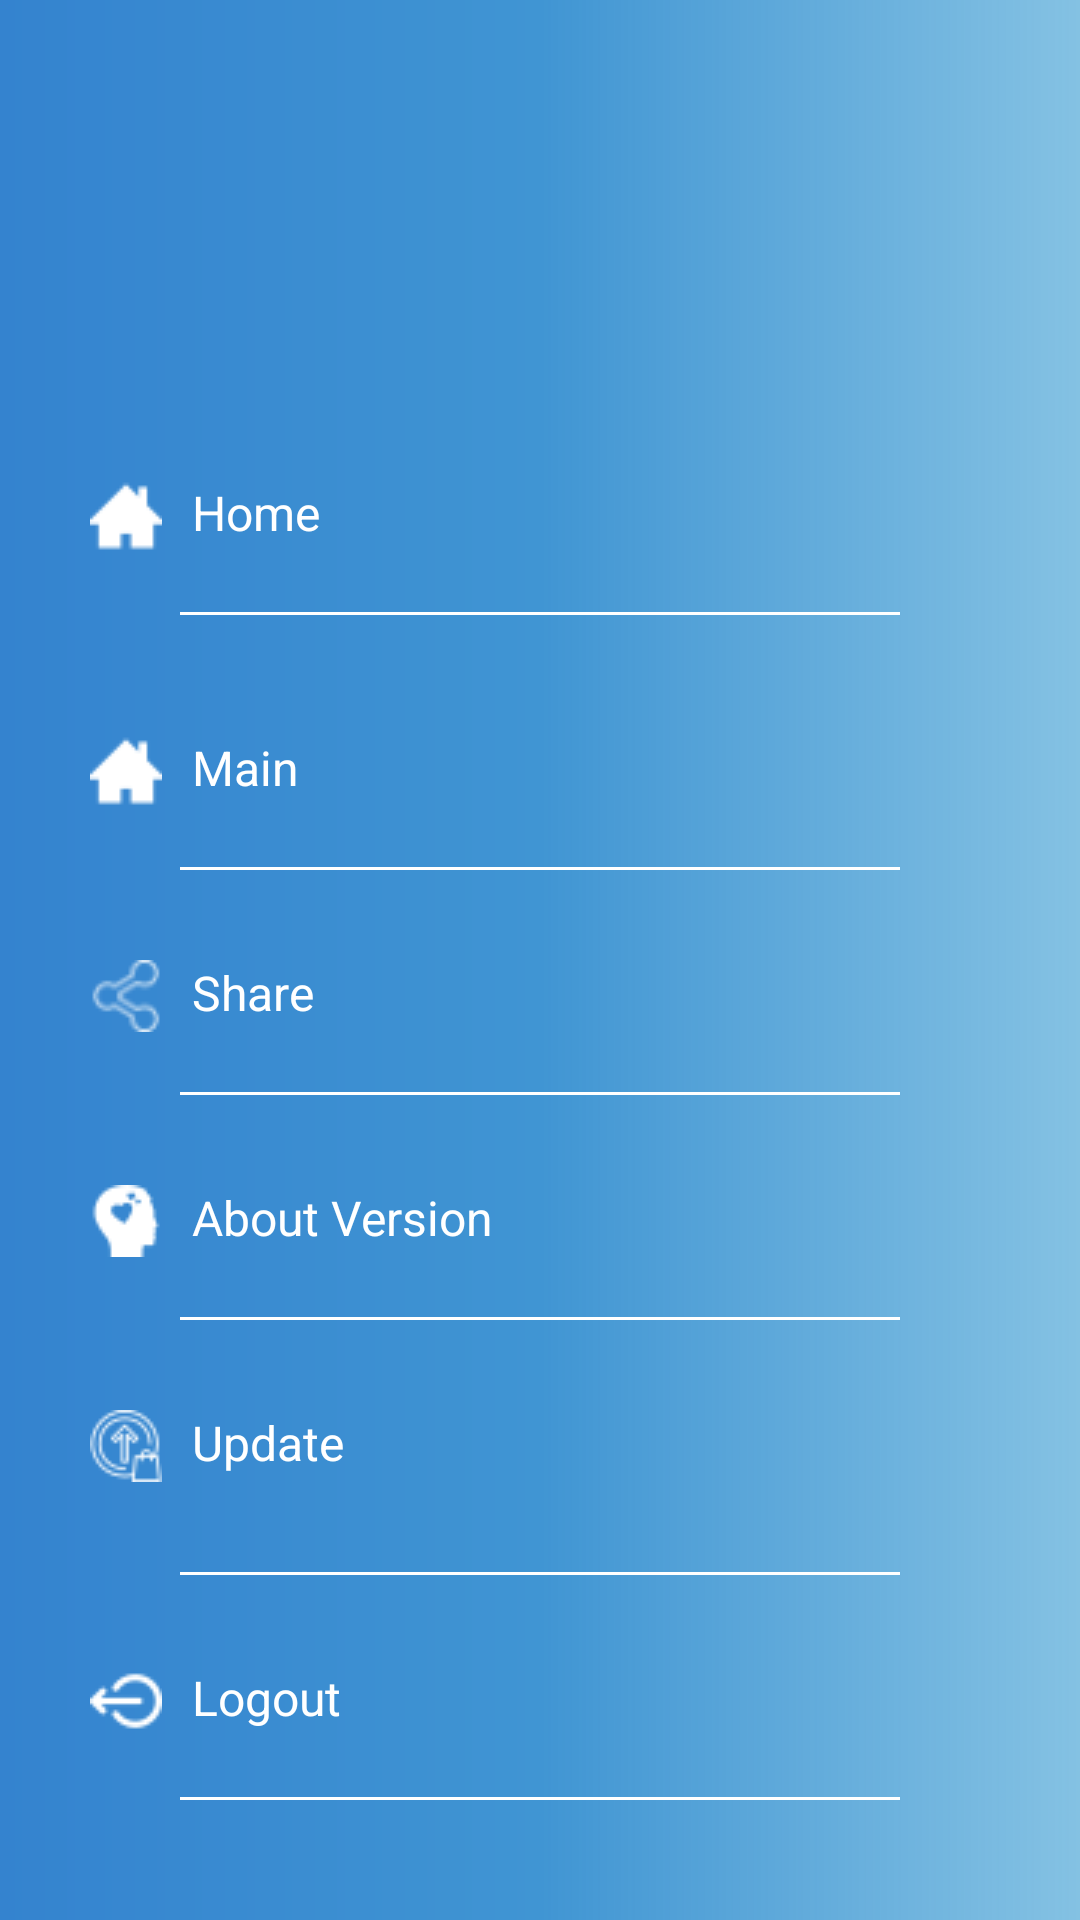

Screen size 1080 × 1920. Icon name, then its box in pixels as [x1,y1,x2,y2]:
upgrade: [90,1410,162,1482]
